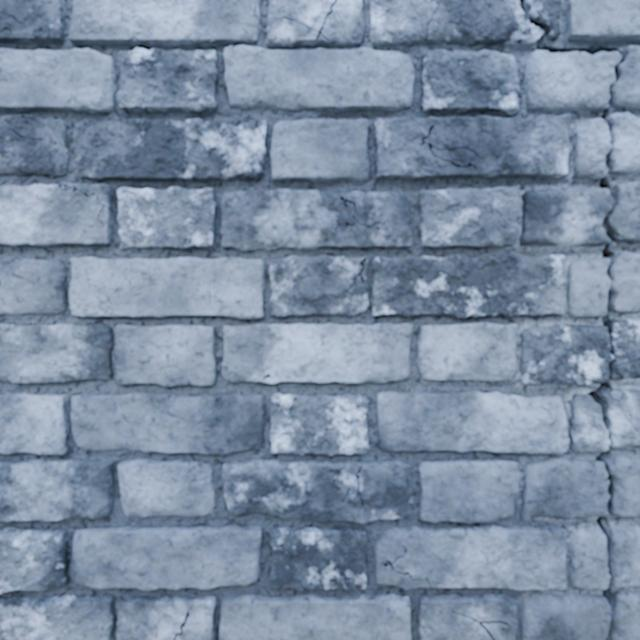broken_brick: (370, 0, 542, 47), (520, 454, 639, 520), (525, 45, 639, 112), (520, 186, 613, 246), (519, 325, 613, 384), (573, 112, 639, 180), (519, 593, 611, 639), (569, 528, 610, 589), (567, 258, 610, 316), (599, 388, 639, 448), (569, 394, 609, 451), (609, 525, 639, 587), (608, 319, 639, 378), (610, 182, 639, 243), (611, 252, 639, 312), (527, 0, 562, 41), (611, 590, 639, 639)
crack: (0, 0, 413, 113), (269, 254, 566, 318), (374, 114, 571, 179), (374, 525, 567, 590), (221, 459, 413, 524), (73, 118, 266, 182), (70, 526, 261, 590), (376, 390, 570, 453), (69, 257, 265, 319), (71, 392, 265, 454), (220, 189, 412, 251), (222, 323, 412, 384), (586, 149, 621, 447), (519, 0, 628, 82), (219, 594, 411, 639), (0, 183, 113, 247), (0, 459, 115, 521), (0, 322, 114, 383), (420, 49, 521, 114), (418, 459, 519, 523), (269, 393, 369, 456), (268, 527, 367, 590), (419, 186, 519, 248), (117, 186, 215, 249), (115, 325, 216, 386), (270, 119, 369, 181), (417, 322, 517, 381), (118, 459, 215, 516), (0, 594, 115, 639), (266, 0, 365, 48), (418, 593, 517, 639), (116, 594, 216, 639), (0, 527, 68, 593), (0, 114, 69, 178), (0, 392, 68, 454), (0, 257, 68, 315), (566, 0, 639, 43), (0, 0, 65, 44), (596, 516, 617, 639), (599, 85, 618, 145), (606, 473, 614, 514), (596, 449, 610, 470), (430, 0, 439, 19), (576, 157, 580, 177), (424, 27, 428, 41)
